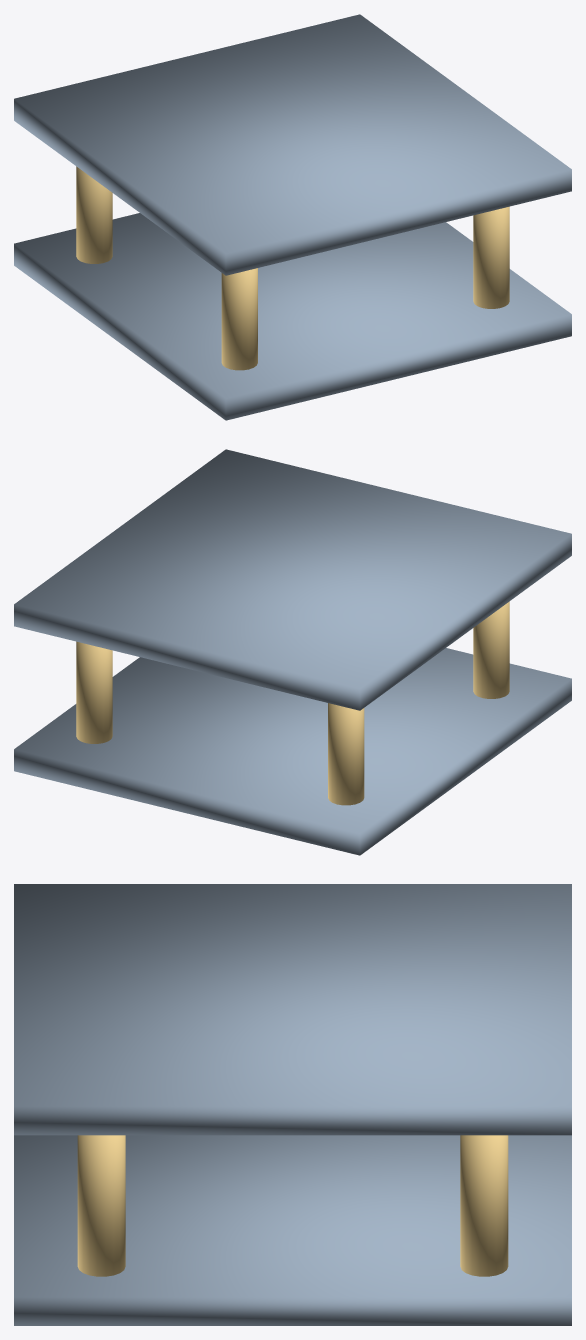
Rendered from 46_L91_ClockVibrationIsolationPlatform.fbx.
3 views of the same model, one above another, from view 1: azimuth 30°, elevation 25°; view 2: azimuth 150°, elevation 25°; view 3: azimuth 270°, elevation 25° (orthographic). The views are drawn at different scales.
Visible parts, largest first — view 1: L91_ClockVibrationIsolationPl_Part_0000, L91_ClockVibrationIsolationPl_Part_0001; view 2: L91_ClockVibrationIsolationPl_Part_0000, L91_ClockVibrationIsolationPl_Part_0001; view 3: L91_ClockVibrationIsolationPl_Part_0000, L91_ClockVibrationIsolationPl_Part_0001.
Boxes of the visible parts, x1,y1,x2,y2 form: L91_ClockVibrationIsolationPl_Part_0000: (14, 14, 571, 420); L91_ClockVibrationIsolationPl_Part_0001: (76, 166, 509, 370); L91_ClockVibrationIsolationPl_Part_0000: (14, 449, 571, 855); L91_ClockVibrationIsolationPl_Part_0001: (76, 601, 509, 805); L91_ClockVibrationIsolationPl_Part_0000: (14, 884, 571, 1325); L91_ClockVibrationIsolationPl_Part_0001: (77, 1135, 508, 1276).
Size of the model in its own units: 1.65 by 0.76 by 1.75.
